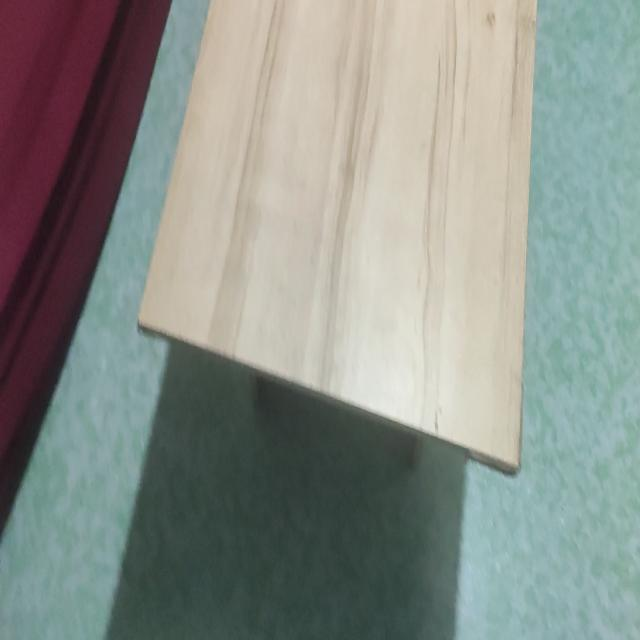table: (138, 0, 542, 496)
